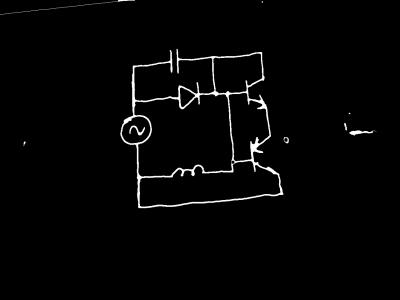capacitor: (174, 81, 204, 110)
diode: (166, 48, 184, 76)
inductor: (166, 164, 209, 180)
